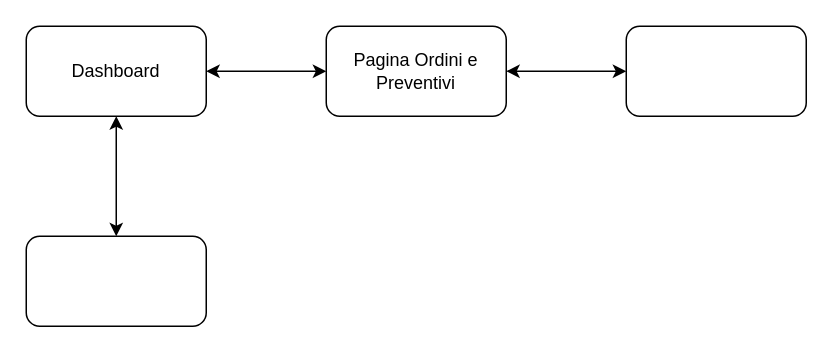
Some shapes in this 833 by 353 pixel diagram are drawn without their labels. Here are the shapes that lost their labels. From the top down, the centre of each, then its label:
the point at 715,70: Pagina Ordine
the point at 115,280: Home
